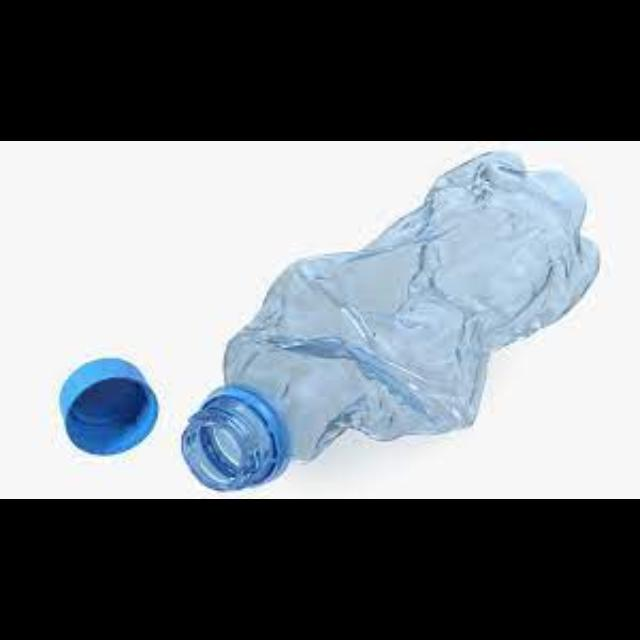trash: (176, 150, 606, 492)
